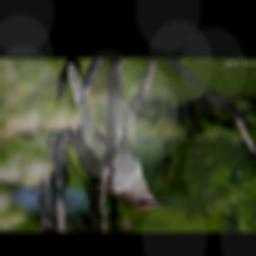Cuckoo: (66, 61, 173, 212)
